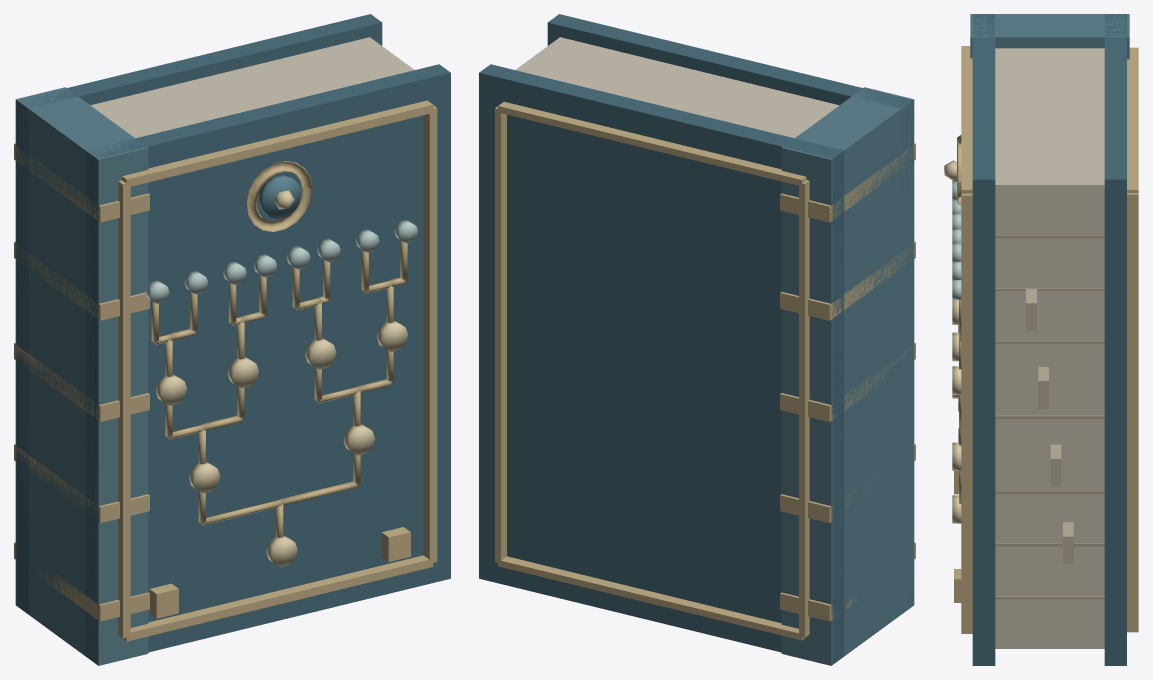
File: ART-41.glb
The picture shows the model from 3 angles, left to right: view 1: azimuth 30°, elevation 25°; view 2: azimuth 150°, elevation 25°; view 3: azimuth 270°, elevation 25°; orthographic projection. The views are drawn at different scales.
Visible parts, largest first — view 1: world; view 2: world; view 3: world.
Boxes of the visible parts, left/top/right/bottom form: world: left=14, top=14, right=450, bottom=665; world: left=479, top=14, right=915, bottom=665; world: left=944, top=14, right=1138, bottom=665.
Size of the model in its own units: 1.56 by 2 by 0.7233.
